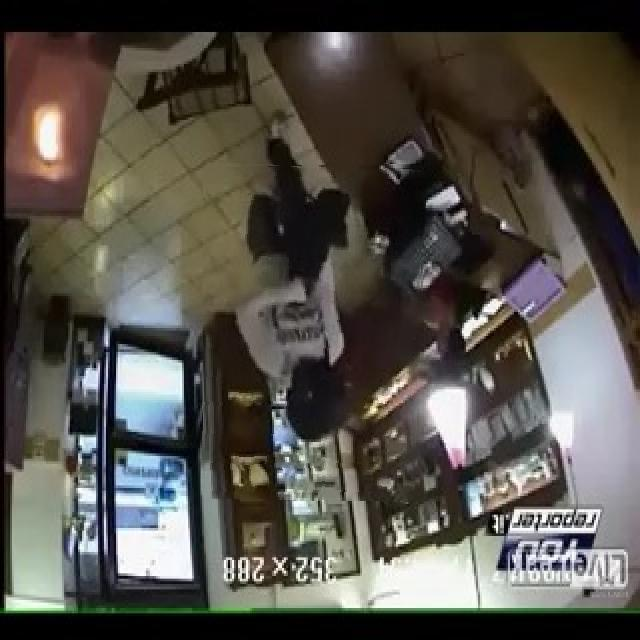Shoplifting: (203, 164, 424, 501)
